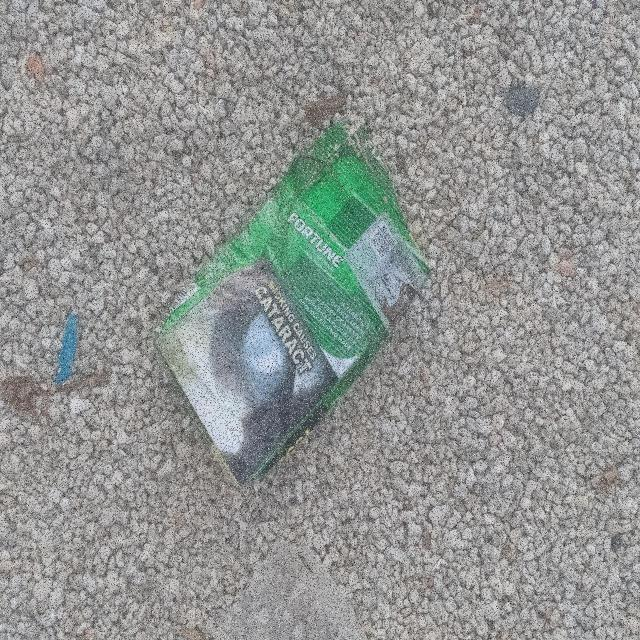cardboard_waste: (150, 115, 431, 492)
plastic_waste: (212, 537, 379, 640)
